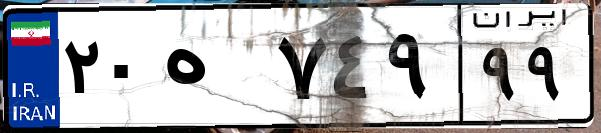0: (110, 28, 158, 98)
2: (57, 26, 110, 100)
4: (330, 28, 385, 110)
7: (270, 28, 330, 110)
9: (385, 28, 445, 110), (475, 38, 525, 113), (525, 38, 570, 115)
ه: (158, 20, 270, 120)
